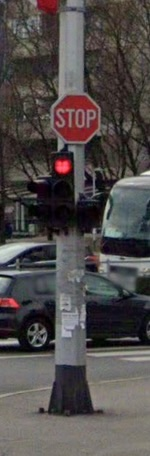Obavezno zaustavljanje: (51, 93, 101, 143)
